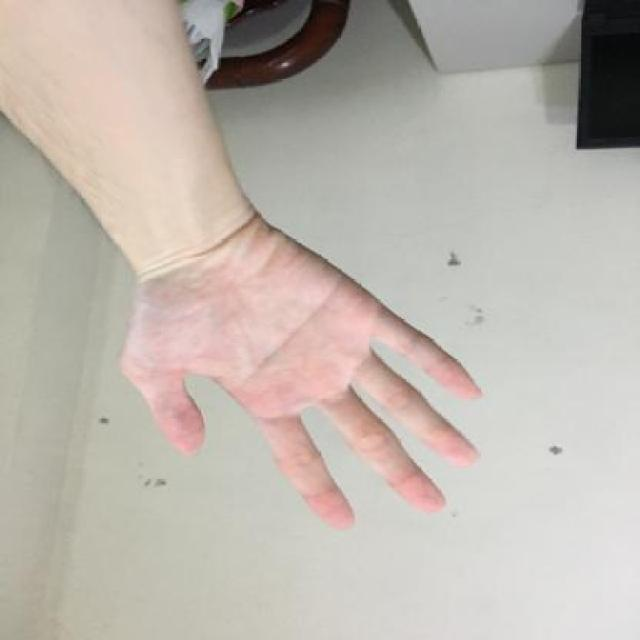bare_hand: (98, 192, 496, 550)
